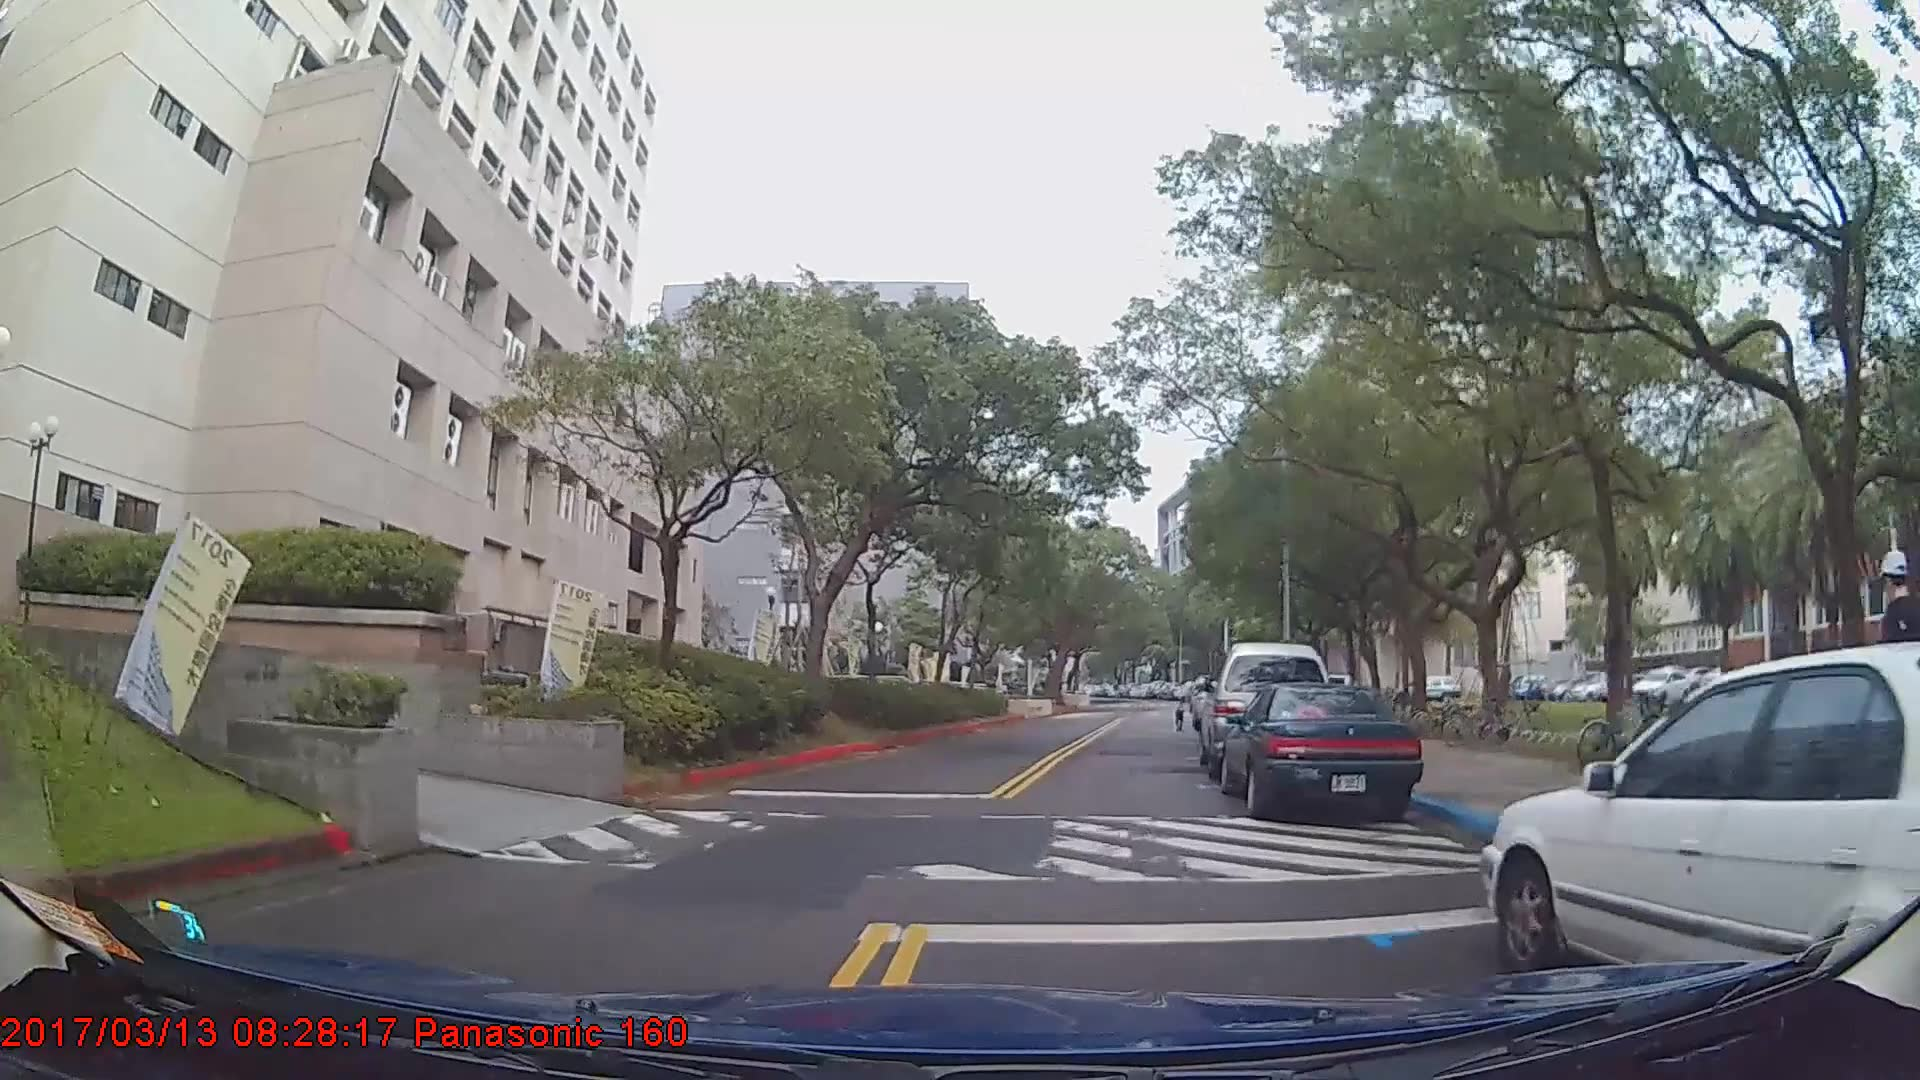pedestrian: (1874, 549, 1920, 834)
vehicle: (1480, 639, 1920, 1018), (1217, 683, 1421, 822), (1201, 641, 1338, 783)
